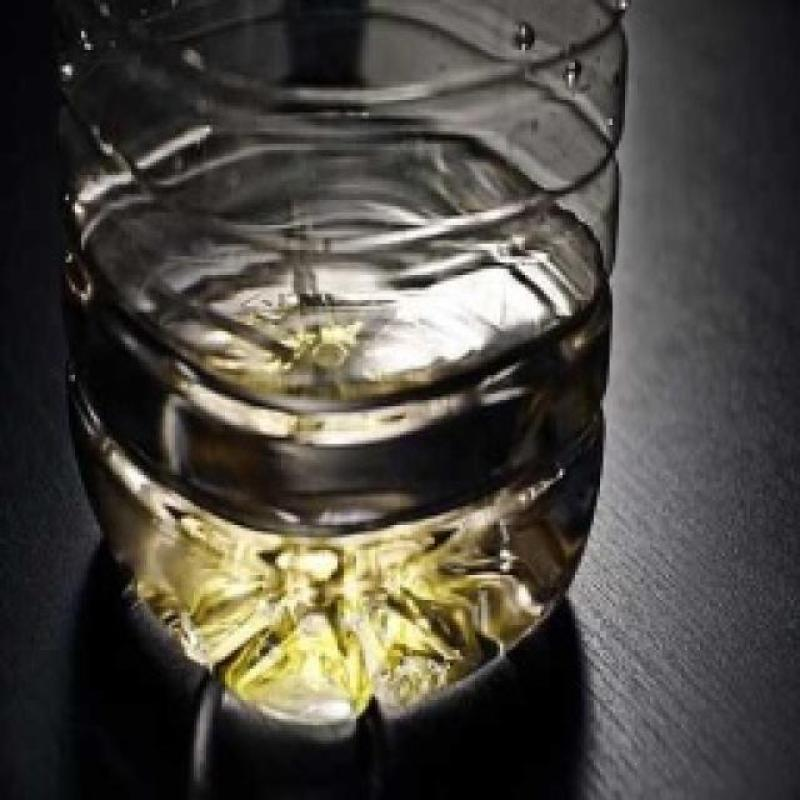botella: (43, 0, 628, 722)
